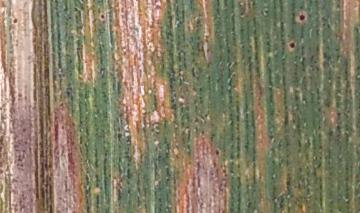tarspot: (296, 13, 308, 22), (287, 39, 296, 50), (10, 16, 19, 25), (262, 7, 270, 16), (213, 147, 220, 157), (99, 12, 106, 21)
